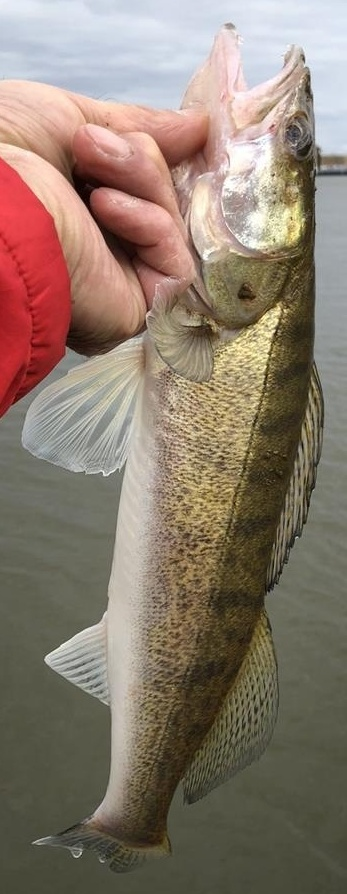Sander lucioperca: (20, 20, 327, 874)
